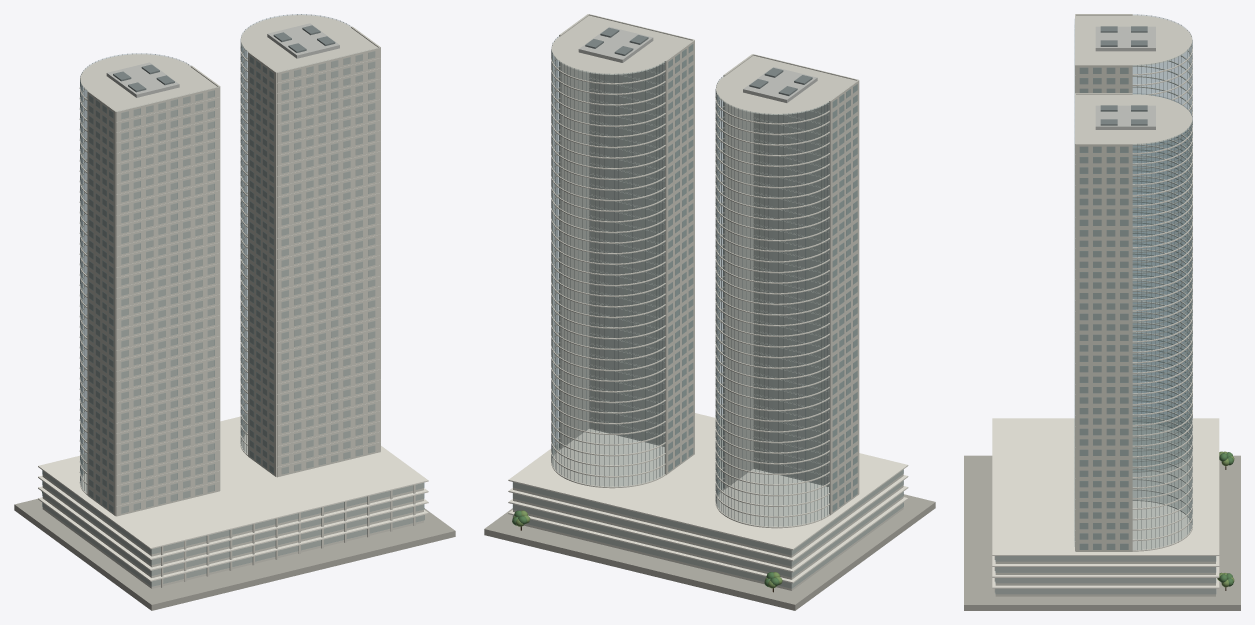
Rendered from wtc.glb.
3 views of the same model, side by side, from view 1: azimuth 30°, elevation 25°; view 2: azimuth 150°, elevation 25°; view 3: azimuth 270°, elevation 25° (orthographic). The views are drawn at different scales.
Visible parts, largest first — view 1: 03 West tower / curtain wall / Limestone, 03 East tower / curtain wall / Limestone, 03 West tower / curtain wall / Glass, 03 East tower / curtain wall / Glass, 01 Retail podium / Ivory, 01 Retail podium / Limestone, 01 Retail podium / Paving, 05 Roof parapets and service core / Limestone, 01 Retail podium / Glass, 04 Glazing divisions / Metal, 05 Roof parapets and service core / Concrete, 06 Roof mechanical equipment / Metal; view 2: 03 West tower / curtain wall / Limestone, 03 East tower / curtain wall / Limestone, 03 West tower / curtain wall / Glass, 03 East tower / curtain wall / Glass, 01 Retail podium / Ivory, 04 Glazing divisions / Metal, 01 Retail podium / Limestone, 01 Retail podium / Paving, 05 Roof parapets and service core / Limestone, 01 Retail podium / Glass, 05 Roof parapets and service core / Concrete, 06 Roof mechanical equipment / Metal; view 3: 03 East tower / curtain wall / Limestone, 03 East tower / curtain wall / Glass, 01 Retail podium / Ivory, 01 Retail podium / Paving, 03 West tower / curtain wall / Glass, 03 West tower / curtain wall / Limestone, 05 Roof parapets and service core / Limestone, 01 Retail podium / Limestone, 04 Glazing divisions / Metal, 01 Retail podium / Glass, 05 Roof parapets and service core / Concrete, 06 Roof mechanical equipment / Metal.
Boxes of the visible parts, x1,y1,x2,y2 form: 03 West tower / curtain wall / Limestone: (79,66,220,516); 03 East tower / curtain wall / Limestone: (240,26,380,477); 03 West tower / curtain wall / Glass: (80,53,214,513); 03 East tower / curtain wall / Glass: (241,14,374,473); 01 Retail podium / Ivory: (38,415,428,581); 01 Retail podium / Limestone: (42,471,423,588); 01 Retail podium / Paving: (14,498,455,610); 05 Roof parapets and service core / Limestone: (80,15,377,111); 01 Retail podium / Glass: (42,470,424,586); 04 Glazing divisions / Metal: (80,14,349,492); 05 Roof parapets and service core / Concrete: (106,23,339,97); 06 Roof mechanical equipment / Metal: (113,25,335,92); 03 West tower / curtain wall / Limestone: (715,54,859,528); 03 East tower / curtain wall / Limestone: (551,14,694,488); 03 West tower / curtain wall / Glass: (717,76,857,526); 03 East tower / curtain wall / Glass: (552,36,692,486); 01 Retail podium / Ivory: (508,413,908,583); 04 Glazing divisions / Metal: (551,35,827,526); 01 Retail podium / Limestone: (513,469,903,590); 01 Retail podium / Paving: (484,494,935,610); 05 Roof parapets and service core / Limestone: (551,15,855,114); 01 Retail podium / Glass: (513,469,903,588); 05 Roof parapets and service core / Concrete: (578,26,817,102); 06 Roof mechanical equipment / Metal: (585,27,812,95); 03 East tower / curtain wall / Limestone: (1075,93,1192,551); 03 East tower / curtain wall / Glass: (1074,93,1192,549); 01 Retail podium / Ivory: (992,418,1219,588); 01 Retail podium / Paving: (964,455,1240,610); 03 West tower / curtain wall / Glass: (1074,14,1192,464); 03 West tower / curtain wall / Limestone: (1075,14,1192,472); 05 Roof parapets and service core / Limestone: (1076,15,1192,144); 01 Retail podium / Limestone: (994,556,1215,596); 04 Glazing divisions / Metal: (1137,14,1192,549); 01 Retail podium / Glass: (995,556,1215,593); 05 Roof parapets and service core / Concrete: (1095,26,1155,129); 06 Roof mechanical equipment / Metal: (1100,26,1147,125).
Size of the model in its own units: 106 by 153 by 83.
